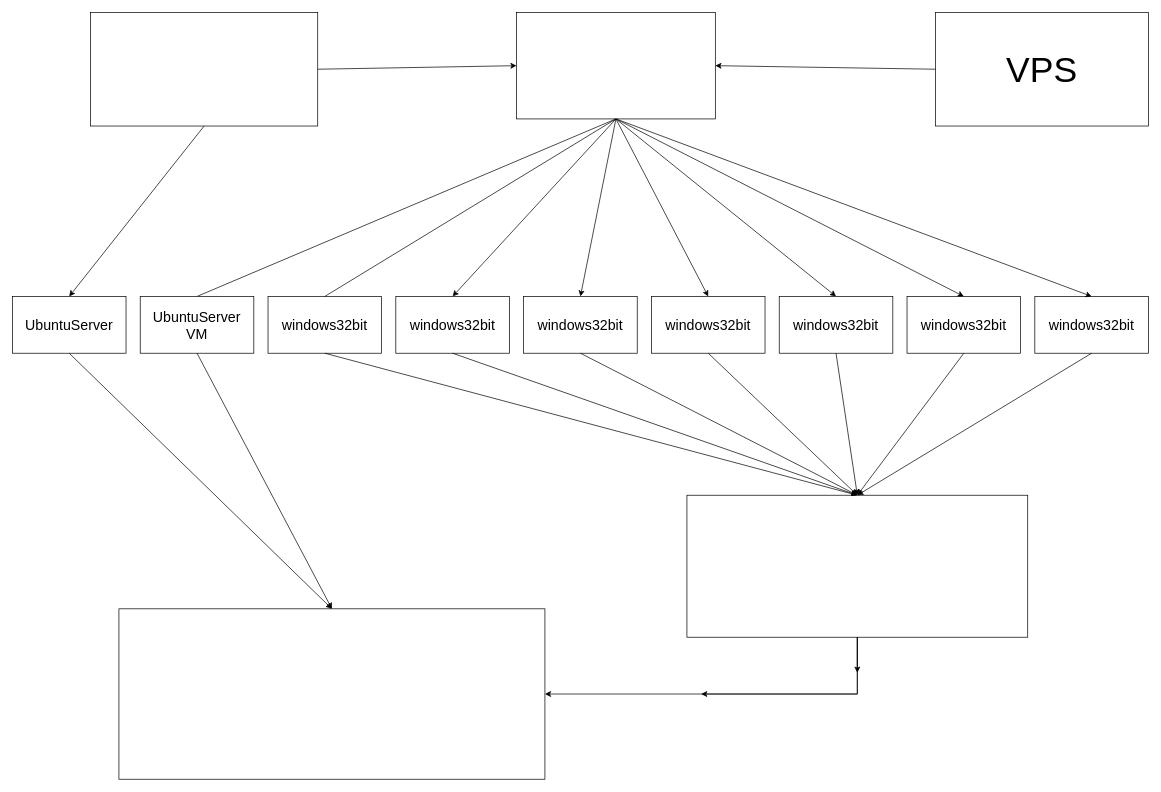
The diagram is 1161 pixels wide and 792 high, and some of its shapes have lost their labels. Each missing label, with the centre of its shape:
"Discord API Server" goes at (x=331, y=693).
"proxmoxサーバー" goes at (x=615, y=65).
"現在のvoiceroidサーバー" goes at (x=857, y=566).
"自宅network" goes at (x=204, y=69).
